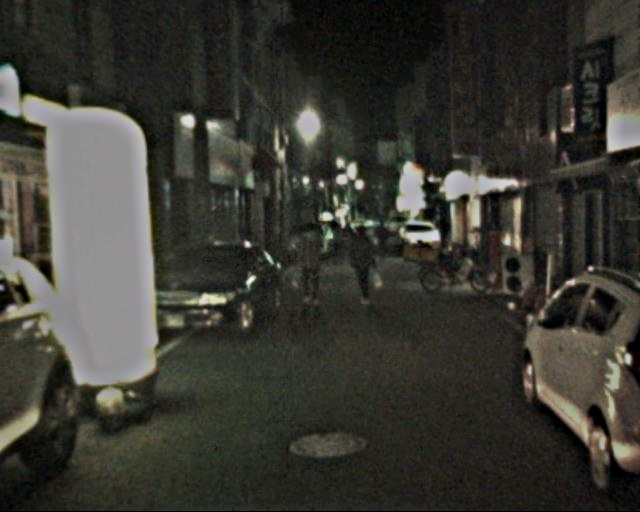person: (292, 220, 330, 310), (346, 226, 378, 304), (377, 219, 396, 265)
